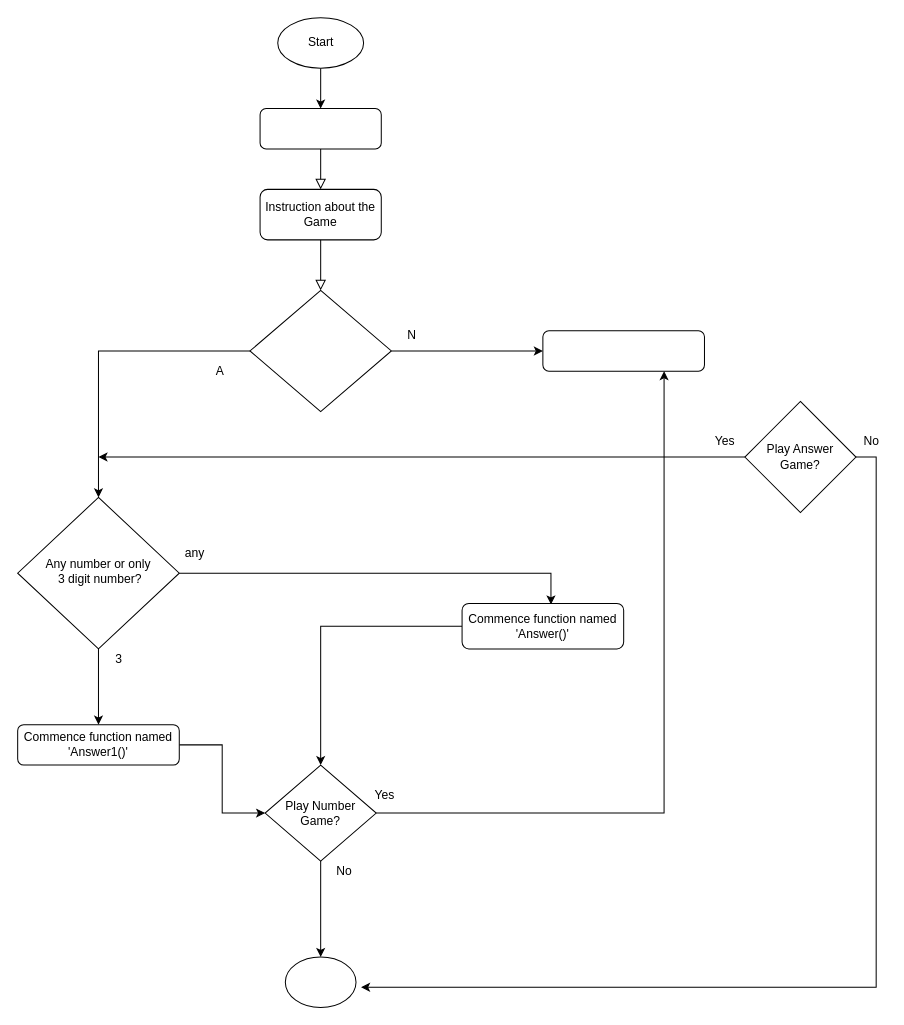
This 904x1025 diagram has some shape labels left out. Here are the shapes that lost their labels. From the top down, the centre of each, then its label:
the point at 320,128: Ask name
the point at 320,350: Guess Number or Answer?
the point at 623,350: Commence function named 'Number()'
the point at 320,981: Stop
